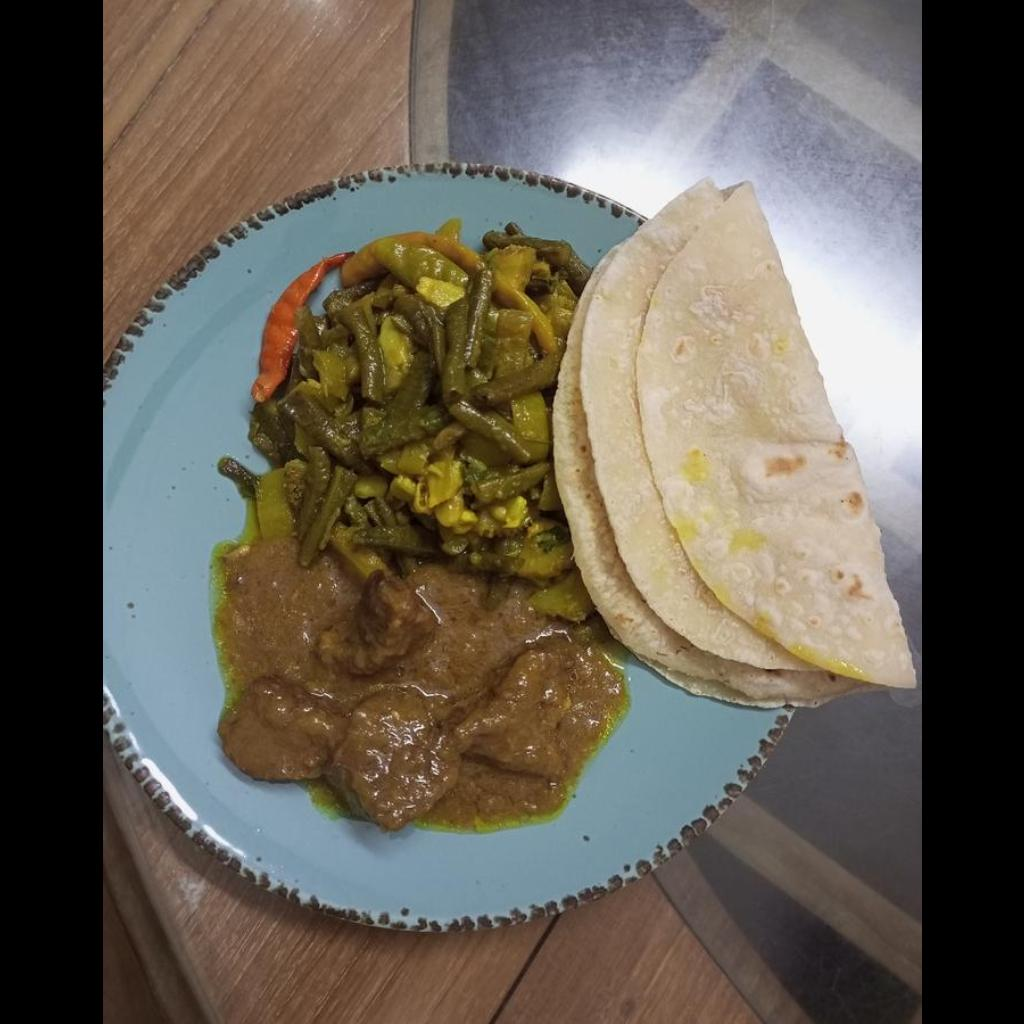beef: (223, 575, 618, 819)
ruti: (551, 180, 914, 713)
vaji: (268, 238, 559, 556)
